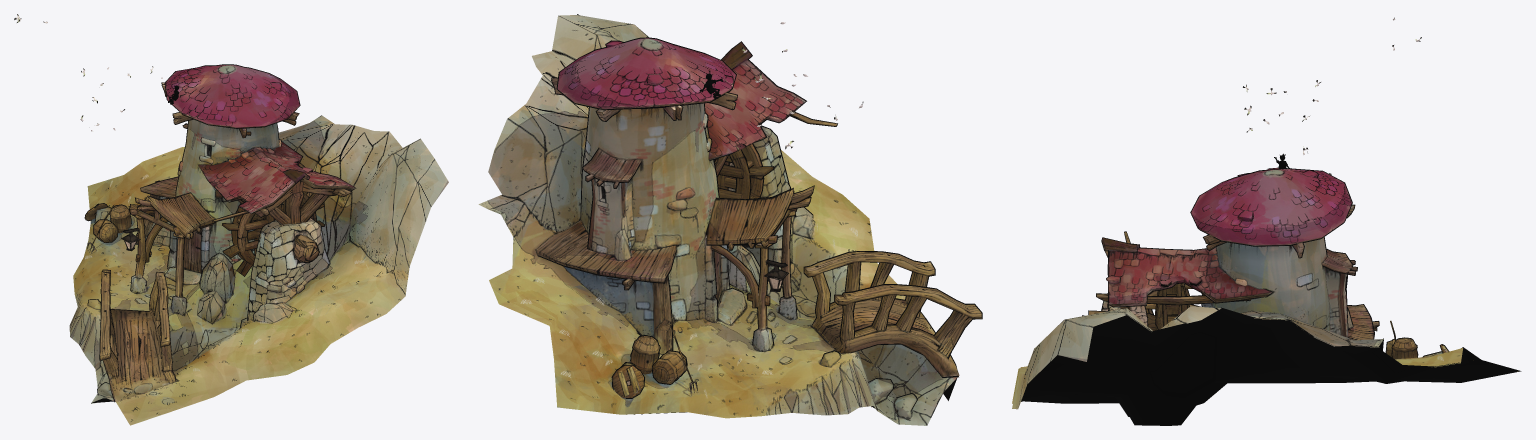
The model's file is Seaside.glb.
3 renders of one model, left to right at view 1: azimuth 30°, elevation 25°; view 2: azimuth 150°, elevation 25°; view 3: azimuth 270°, elevation 25°, orthographic. The views are drawn at different scales.
Visible parts, largest first — view 1: wm.001, outline.001; view 2: wm.001, outline.001; view 3: wm.001, outline.001.
Part boxes in pixels (<box>): wm.001: <box>14,14,448,425</box>; outline.001: <box>84,64,356,403</box>; wm.001: <box>478,15,981,425</box>; outline.001: <box>538,14,982,414</box>; wm.001: <box>1012,17,1517,409</box>; outline.001: <box>1021,153,1521,425</box>.
Size of the model in its own units: 80.23 by 76.33 by 90.73.
Materials: 3 (2 with a texture image).
